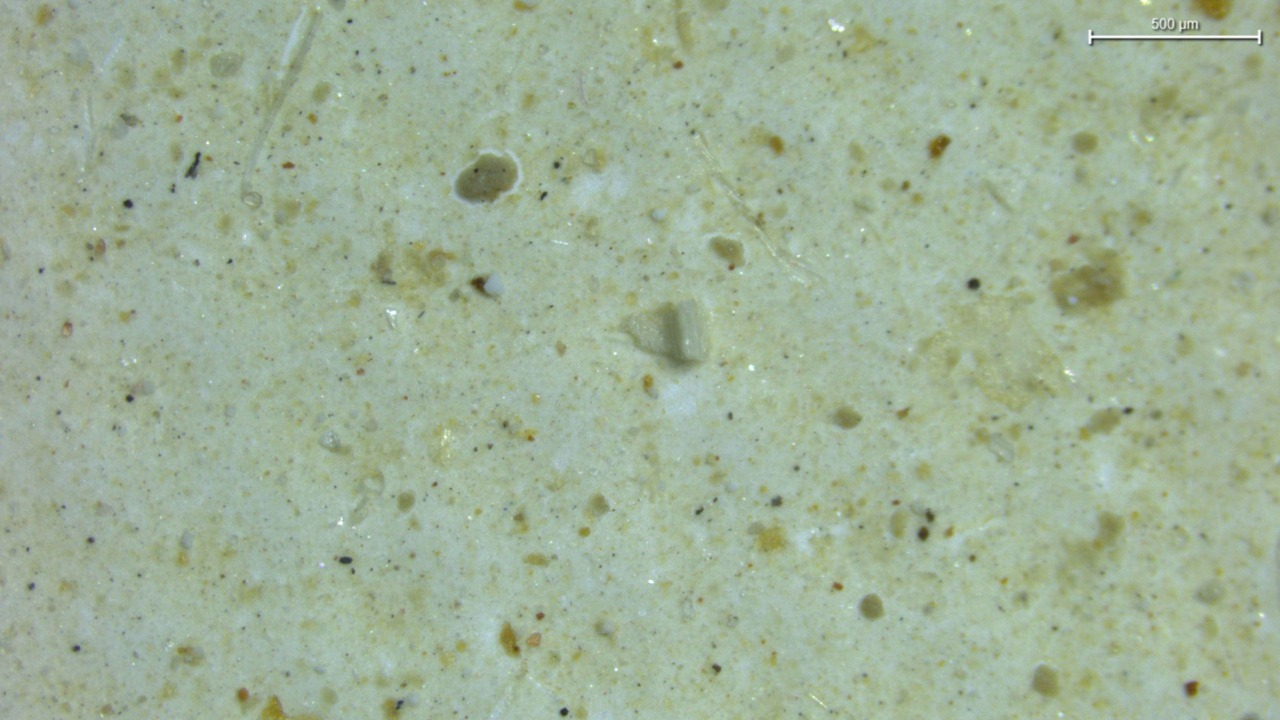microplastic_fragment: (624, 300, 708, 362)
